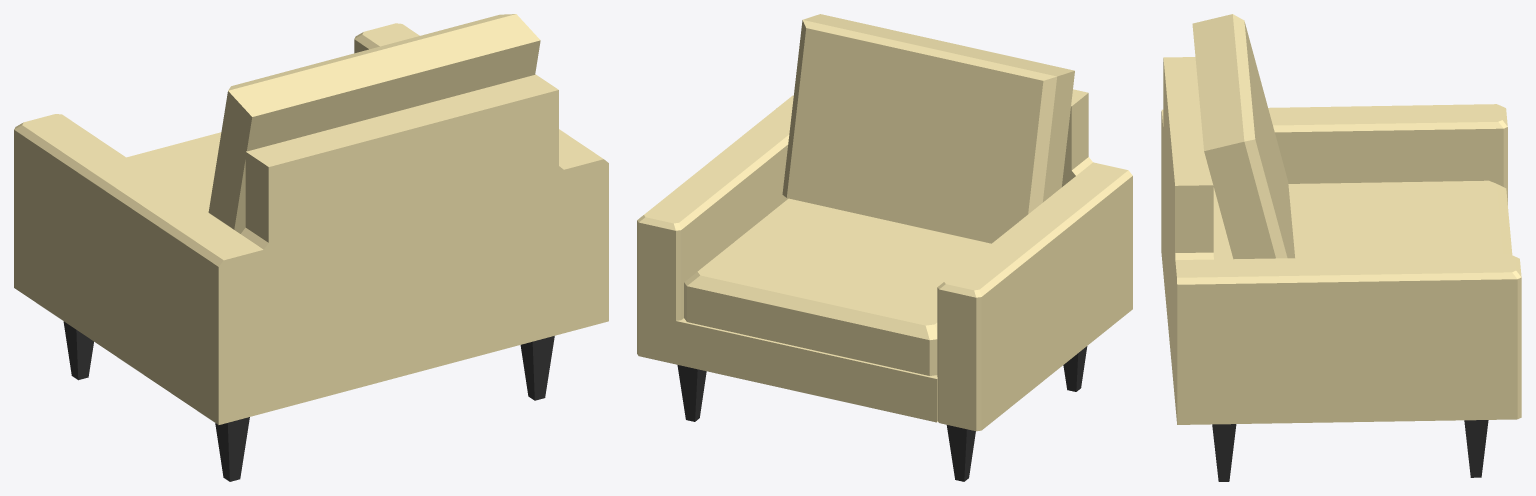
Rendered from sofa.fbx.
3 renders of one model, left to right at view 1: azimuth 30°, elevation 25°; view 2: azimuth 150°, elevation 25°; view 3: azimuth 270°, elevation 25°, orthographic. The views are drawn at different scales.
Parts seen in each view (by area): view 1: Armchair_208; view 2: Armchair_208; view 3: Armchair_208.
Boxes of the visible parts, x1,y1,x2,y2 form: Armchair_208: (14,14,608,481); Armchair_208: (637,14,1132,481); Armchair_208: (1161,14,1521,481).
Bounding box in the file's own units: 99.07 × 86.64 × 84.62.
